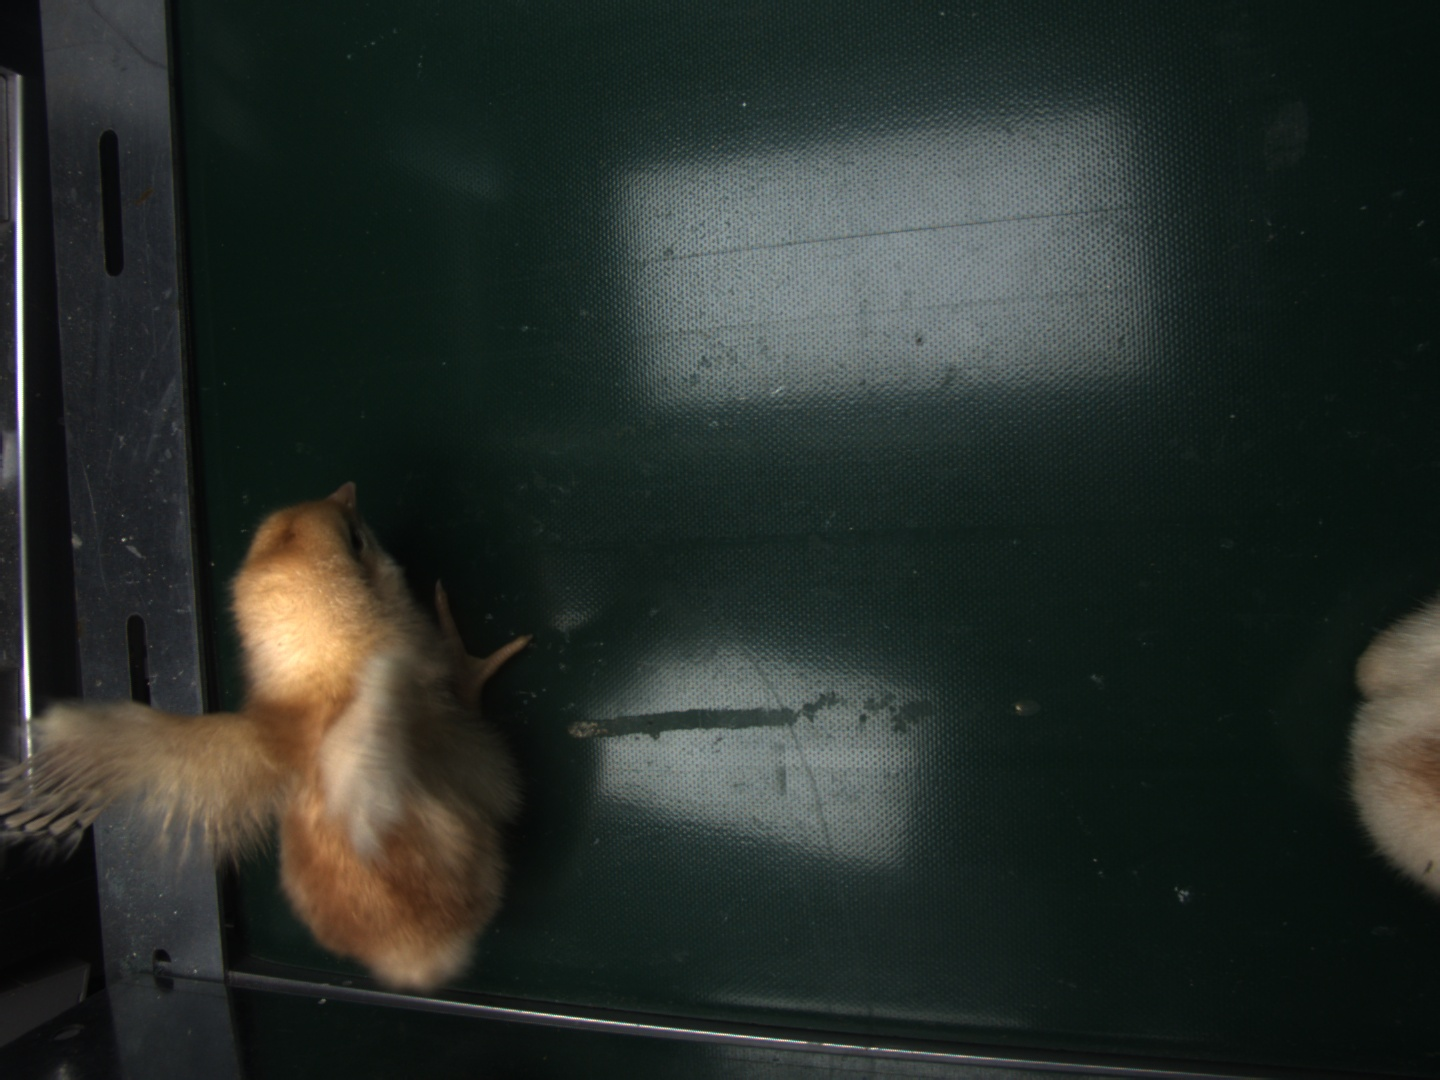female: (1, 750, 113, 839)
